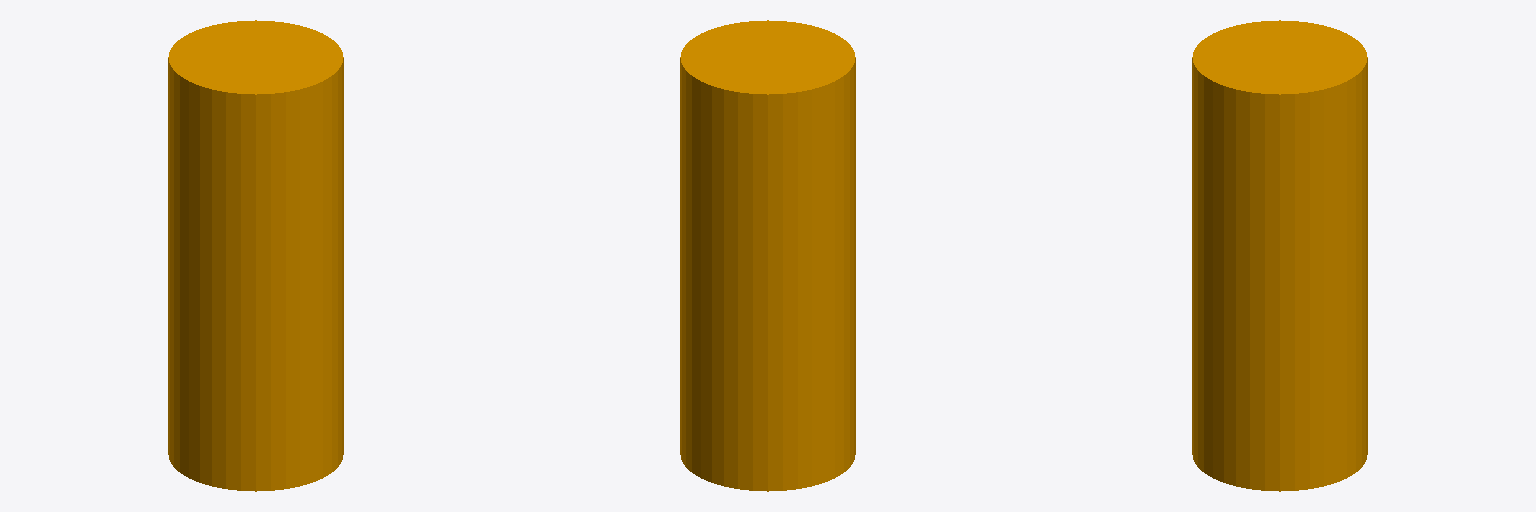
The robot description file, URDF, robot "model.urdf":
<?xml version="0.0" ?>
<robot name="model.urdf">
  <link name="baseLink">
    <contact>
      <friction_anchor/>
      <lateral_friction value="1.0"/>
      <spinning_friction value="0.03"/>
      <rolling_friction value="0.03"/>
      <contact_cfm value="0.1"/>
      <contact_erp value="1.0"/>
    </contact>
    <inertial>
       <origin rpy="0 0 0" xyz="0 0 -0.01"/>
       <mass value=".100"/>
       <inertia ixx="1e-3" ixy="0" ixz="0" iyy="1e-3" iyz="0" izz="1e-3"/>
    </inertial>
    <visual>
      <geometry>
        <mesh filename="mesh.obj" scale="1 1 1"/>
      </geometry>
    </visual>
    <collision>
      <geometry>
    	 	<mesh filename="mesh.obj" scale="1 1 1"/>
      </geometry>
    </collision>
  </link>
</robot>

--- Facts derived from the render (not from the file) ---
The picture shows the robot from 3 angles, left to right: view 1: azimuth 30°, elevation 25°; view 2: azimuth 150°, elevation 25°; view 3: azimuth 270°, elevation 25°; orthographic projection.
Robot: model.urdf — 1 links, 0 joints (none); root link baseLink; default pose: all joints at 0.
Links seen in each view (by area): view 1: baseLink; view 2: baseLink; view 3: baseLink.
Boxes of the visible links, x1,y1,x2,y2 form: baseLink: (168, 20, 343, 491); baseLink: (680, 20, 855, 491); baseLink: (1192, 20, 1367, 491).
Bounding box of the posed robot: 0.06 × 0.06 × 0.15 m (x, y, z).
1 mesh visuals loaded from 1 distinct referenced files (1 OBJ).